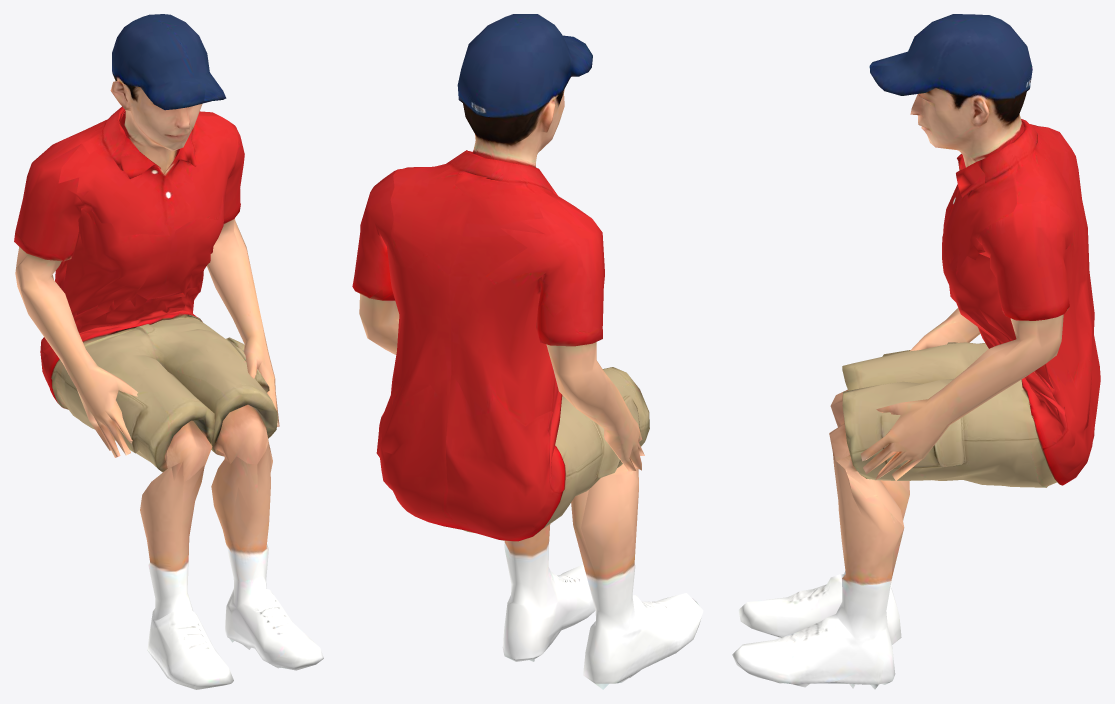
Rendered from fan_dad_sit.glb.
3 renders of one model, left to right at view 1: azimuth 30°, elevation 25°; view 2: azimuth 150°, elevation 25°; view 3: azimuth 270°, elevation 25°, orthographic. The views are drawn at different scales.
Visible parts, largest first — view 1: char1; view 2: char1; view 3: char1.
Part boxes in pixels (box(x1,y1,x2,y2)): char1: box(14, 14, 323, 689); char1: box(352, 14, 703, 689); char1: box(732, 14, 1100, 689).
Size of the model in its own units: 0.5035 by 1.33 by 0.6869.
1 material, 1 textured.
